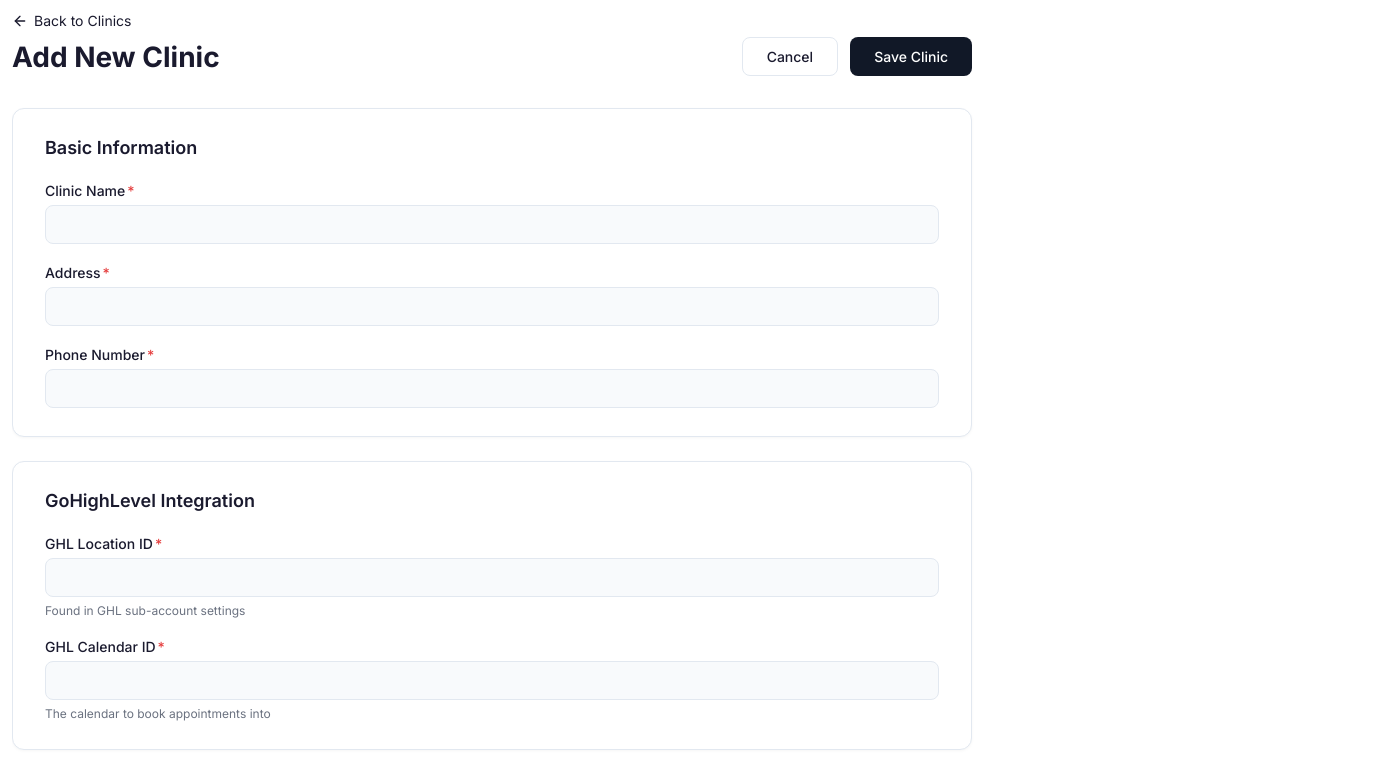
Test case: AddClinicPage › should reject ghlLocationId with non-alphanumeric characters
Type "Test Clinic" into the field below "Clinic Name" at [492, 224], box [45, 205, 939, 244]
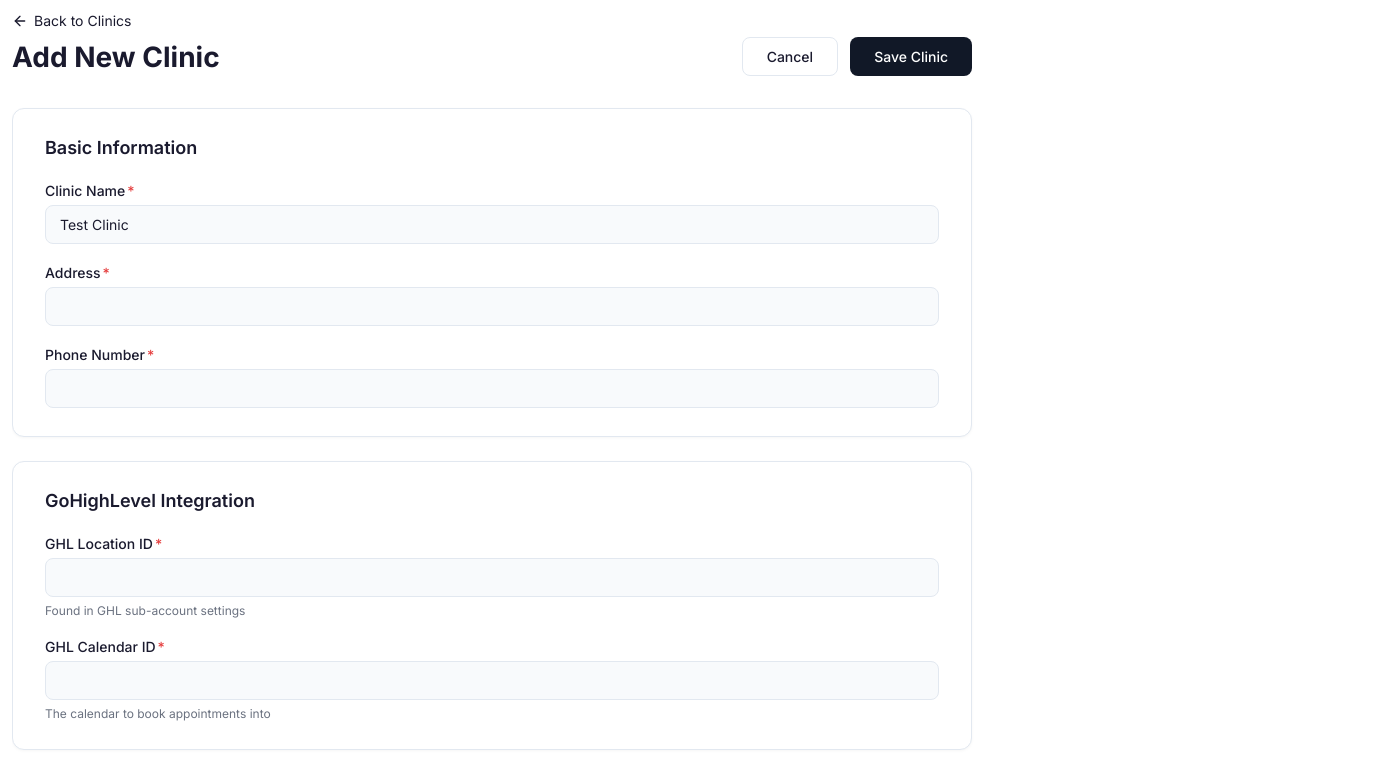
Type "bad id!" into the field below "GHL Location ID" at [492, 578], box [45, 558, 939, 597]
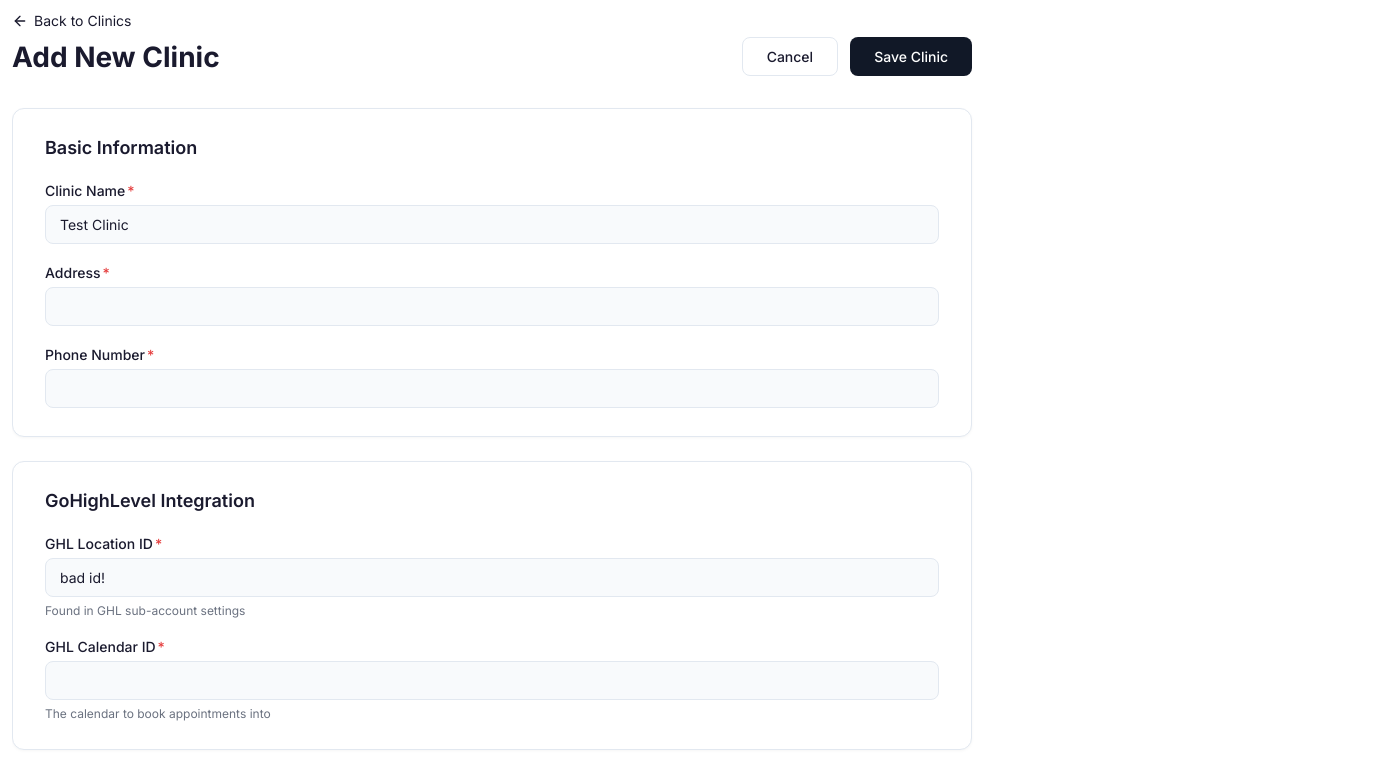
Type "cal_test_001" into the field below "GHL Calendar ID" at [492, 680], box [45, 661, 939, 700]
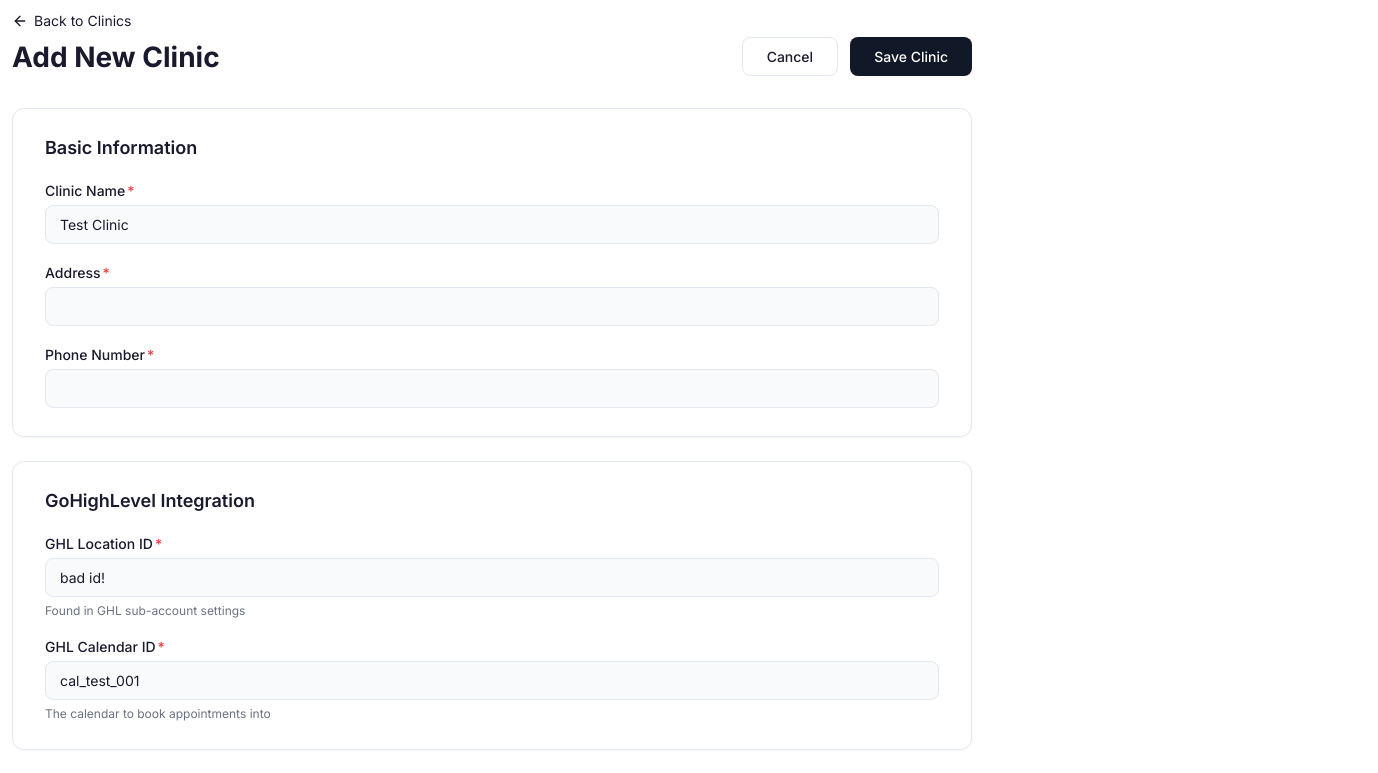
Click the button "Save Clinic" at [911, 56], box [850, 37, 972, 76]
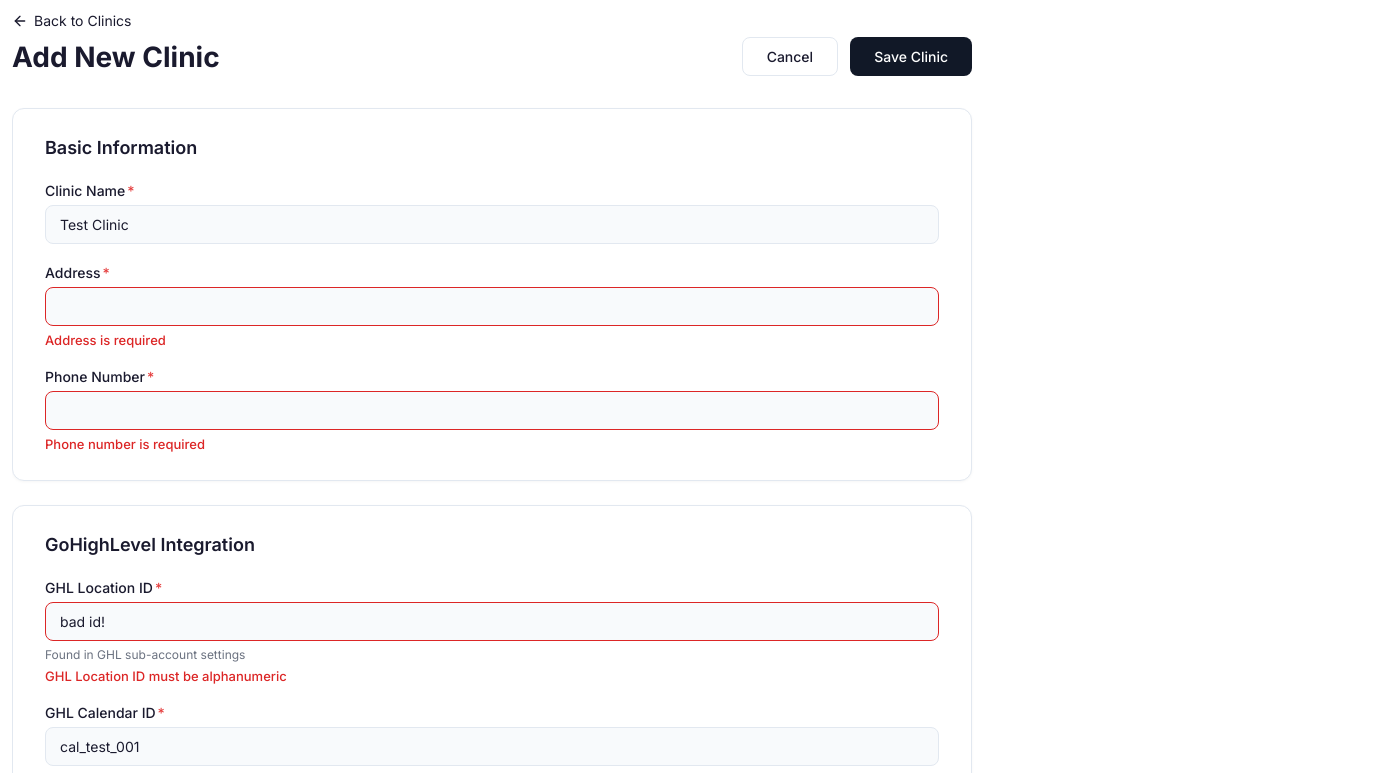
expect the text "GHL Location ID must be alphanumeric" is shown: met, box [45, 668, 287, 684]
